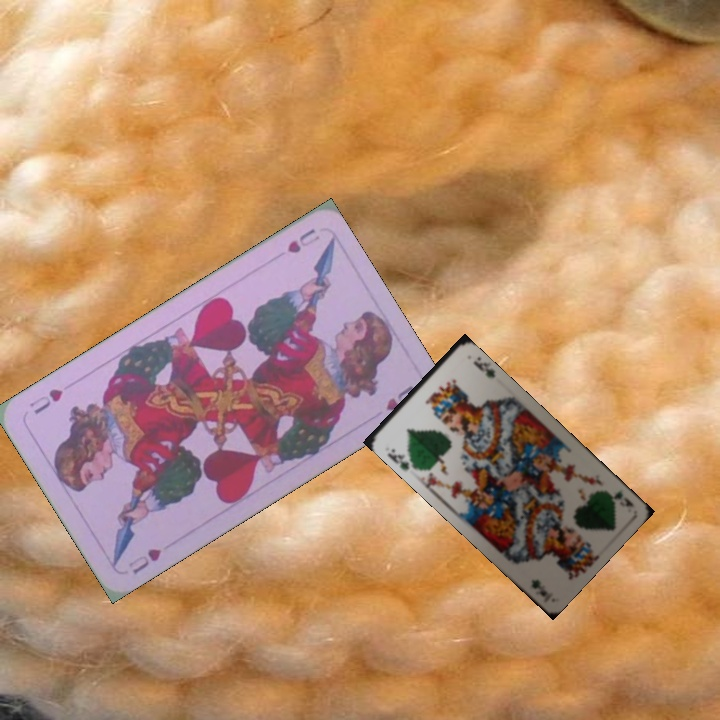GK: (383, 444, 416, 473), (598, 485, 637, 509)
HU: (124, 544, 164, 577), (283, 224, 323, 256)
